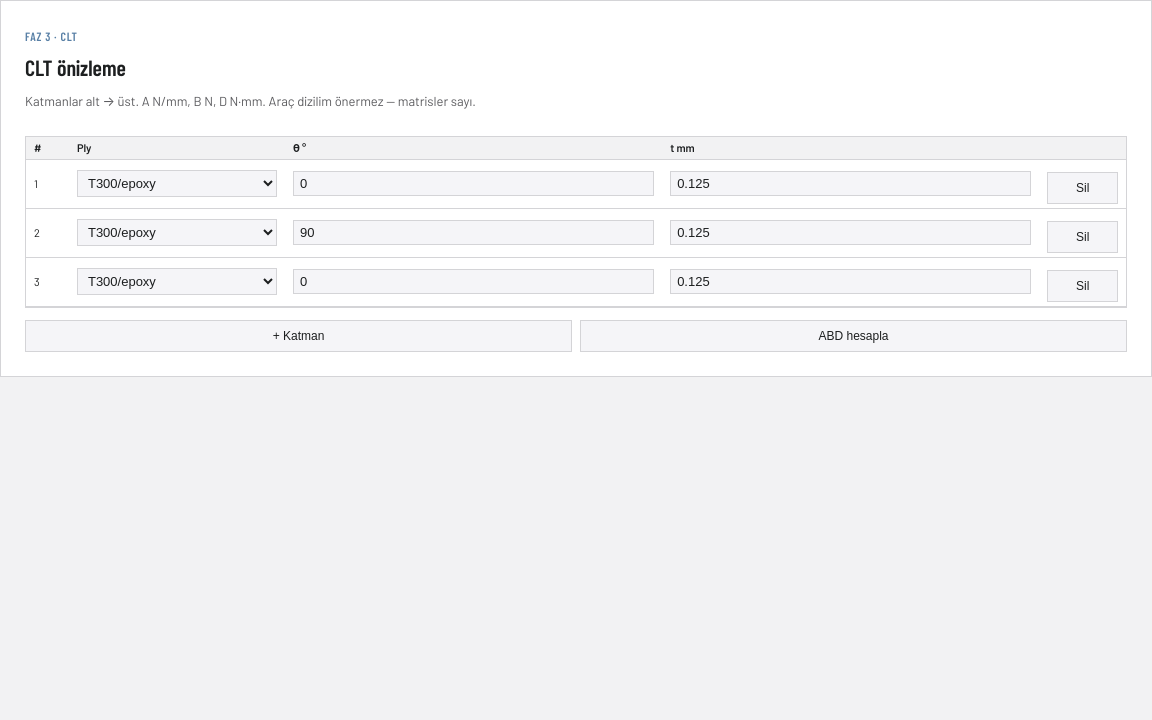
Test: CompositeCltPanel › [0/90/0] için ABD sayılarını gösterir
Expected: the field named "Katman 1 açı" holds "0", [293,171,654,196]
Expected: the field named "Katman 2 açı" holds "90", [293,220,654,245]
Click the button "ABD hesapla". click: (854, 336)
box: [580,320,1127,352]
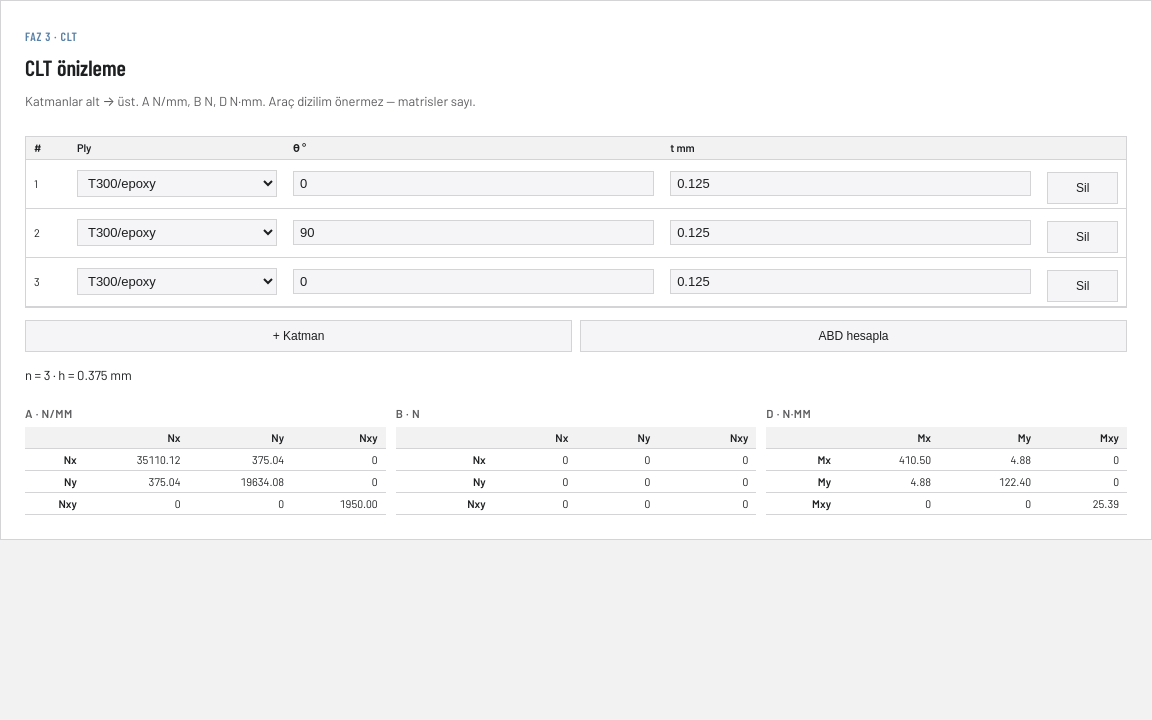
Now the element with test id "composite-abd" is shown, box [25,366,1127,515]
Now the text "35110.12" is shown, box [85,448,188,470]
Now the text "n = 3 · h = 0.375 mm" is shown, box [25,367,132,383]
